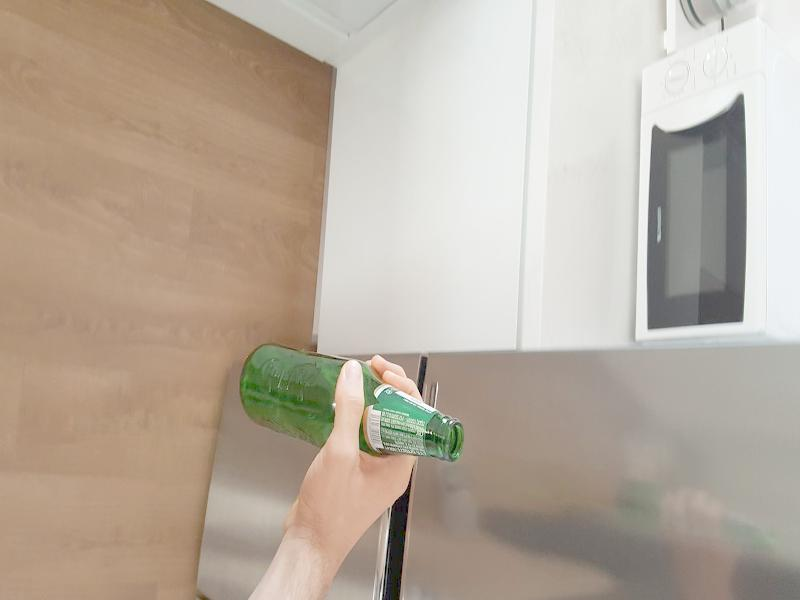Beer: (238, 345, 463, 461)
